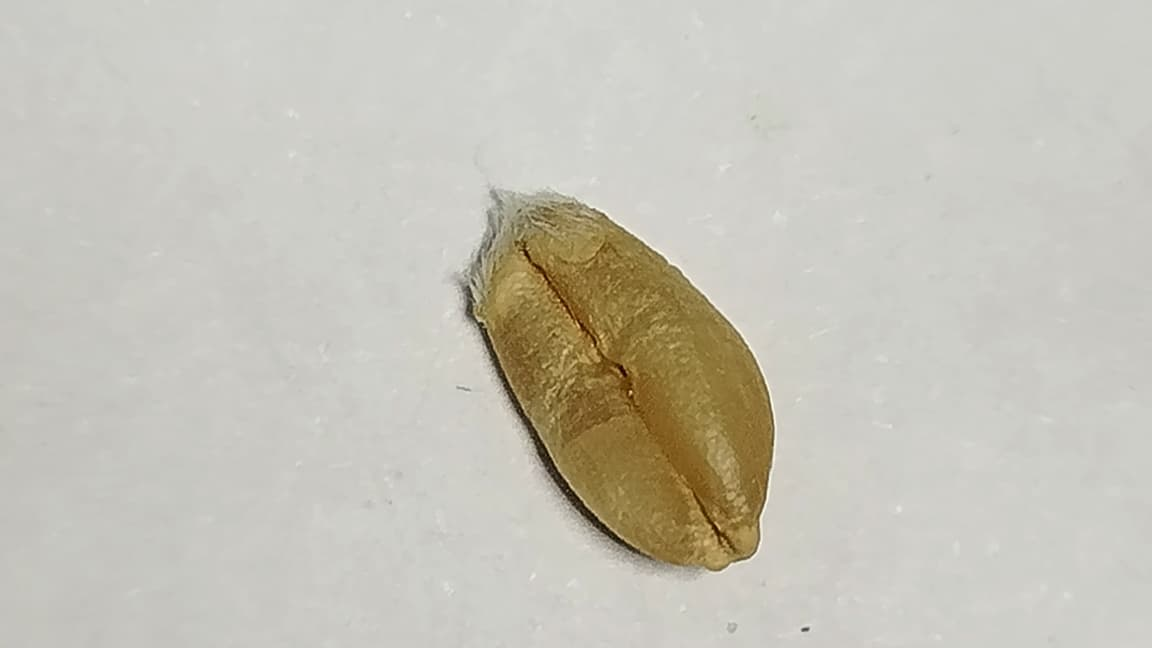healthy: (473, 201, 772, 569)
